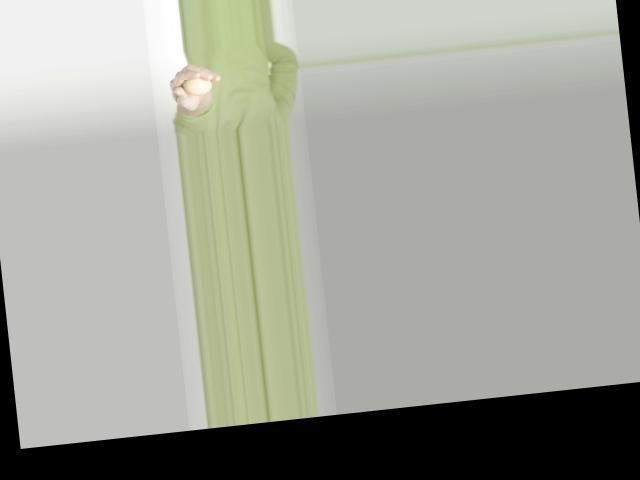egg: (182, 75, 213, 96)
